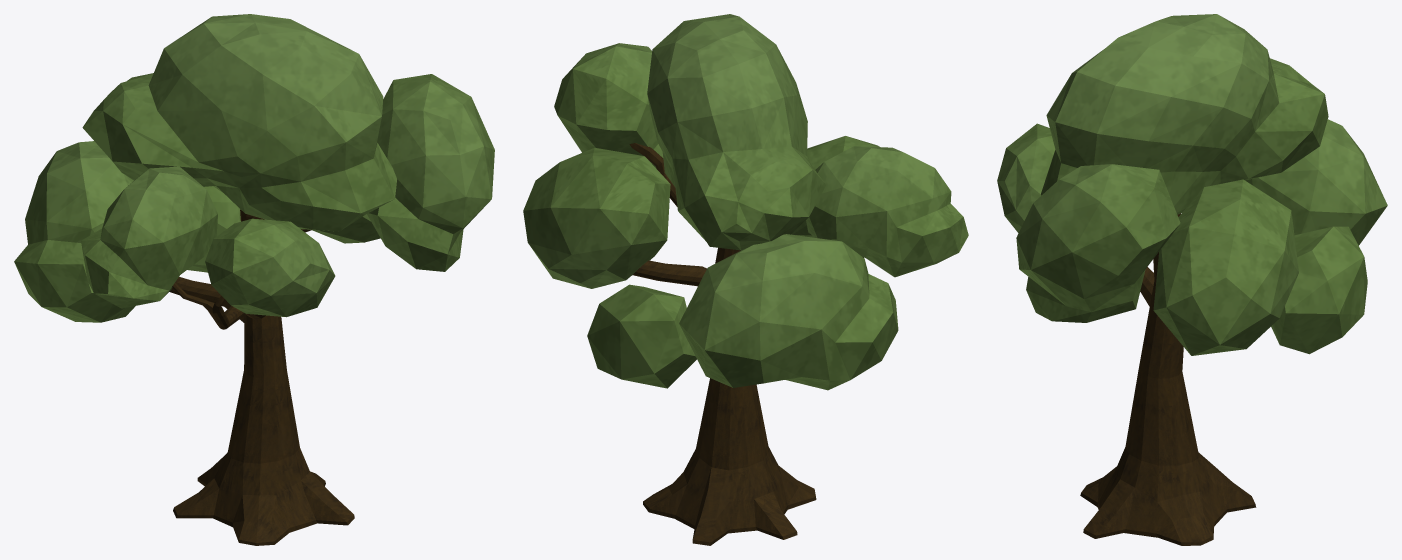
Rendered from Tree_3 (1).fbx.
3 views of the same model, side by side, from view 1: azimuth 30°, elevation 25°; view 2: azimuth 150°, elevation 25°; view 3: azimuth 270°, elevation 25° (orthographic).
Visible parts, largest first — view 1: GeoSphere044, GeoSphere039, Cylinder037, GeoSphere043, GeoSphere048, GeoSphere042, GeoSphere047, Cylinder039, GeoSphere045, Cylinder041; view 2: GeoSphere044, GeoSphere048, GeoSphere045, Cylinder037, GeoSphere043, GeoSphere039, GeoSphere047, Cylinder040, GeoSphere042, Cylinder038; view 3: GeoSphere044, GeoSphere039, GeoSphere045, Cylinder037, GeoSphere048, GeoSphere047, GeoSphere042.
Part boxes in pixels (bbox=[...]): GeoSphere044: bbox=[82, 14, 397, 231]; GeoSphere039: bbox=[367, 74, 494, 271]; Cylinder037: bbox=[173, 209, 354, 545]; GeoSphere043: bbox=[81, 166, 217, 308]; GeoSphere048: bbox=[14, 141, 135, 322]; GeoSphere042: bbox=[205, 218, 335, 317]; GeoSphere047: bbox=[187, 186, 240, 272]; Cylinder039: bbox=[172, 282, 265, 329]; GeoSphere045: bbox=[312, 214, 380, 243]; Cylinder041: bbox=[169, 276, 245, 323]; GeoSphere044: bbox=[647, 14, 825, 250]; GeoSphere048: bbox=[679, 234, 898, 390]; GeoSphere045: bbox=[523, 147, 670, 288]; Cylinder037: bbox=[643, 247, 816, 545]; GeoSphere043: bbox=[806, 146, 968, 277]; GeoSphere039: bbox=[554, 43, 663, 168]; GeoSphere047: bbox=[587, 284, 696, 388]; Cylinder040: bbox=[632, 260, 706, 286]; GeoSphere042: bbox=[791, 136, 880, 237]; Cylinder038: bbox=[629, 143, 677, 206]; GeoSphere044: bbox=[1041, 14, 1328, 214]; GeoSphere039: bbox=[1016, 164, 1180, 322]; GeoSphere045: bbox=[1153, 179, 1298, 355]; Cylinder037: bbox=[1080, 213, 1256, 545]; GeoSphere048: bbox=[1245, 119, 1387, 245]; GeoSphere047: bbox=[1271, 226, 1367, 354]; GeoSphere042: bbox=[997, 123, 1055, 232].
Bounding box in the file's own units: 861 × 1016 × 741.
